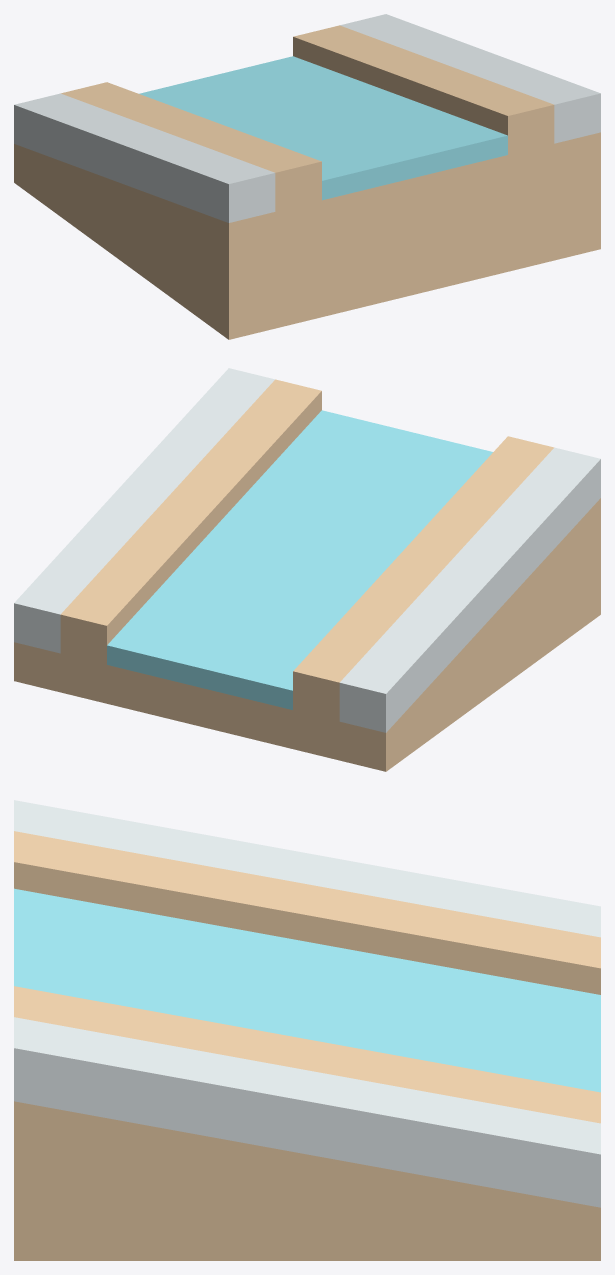
Rendered from snow_tile_riverSlope.glb.
The picture shows the model from 3 angles, top to bottom: view 1: azimuth 30°, elevation 25°; view 2: azimuth 150°, elevation 25°; view 3: azimuth 270°, elevation 25°; orthographic projection. The views are drawn at different scales.
Parts seen in each view (by area): view 1: snow_tile_riverSlope; view 2: snow_tile_riverSlope; view 3: snow_tile_riverSlope.
Part boxes in pixels (left/top/right/bottom): snow_tile_riverSlope: left=14, top=14, right=600, bottom=339; snow_tile_riverSlope: left=14, top=368, right=600, bottom=771; snow_tile_riverSlope: left=14, top=800, right=600, bottom=1260.
Bounding box in the file's own units: 1 × 0.4 × 1.
